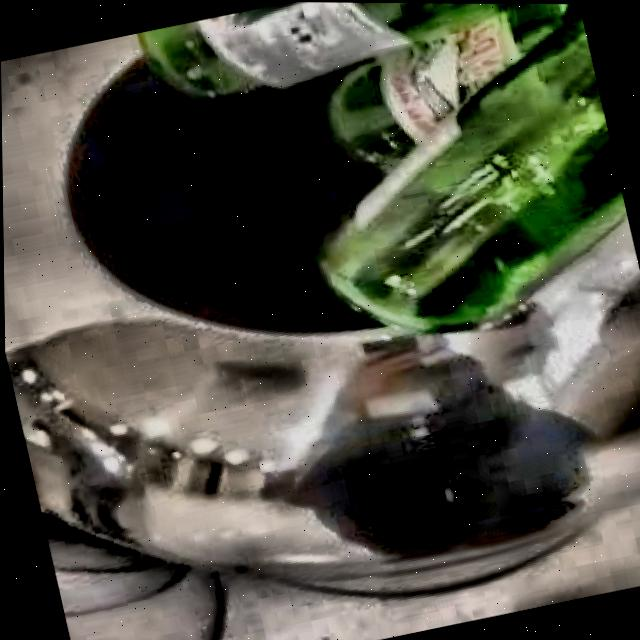glass: (140, 2, 627, 330)
